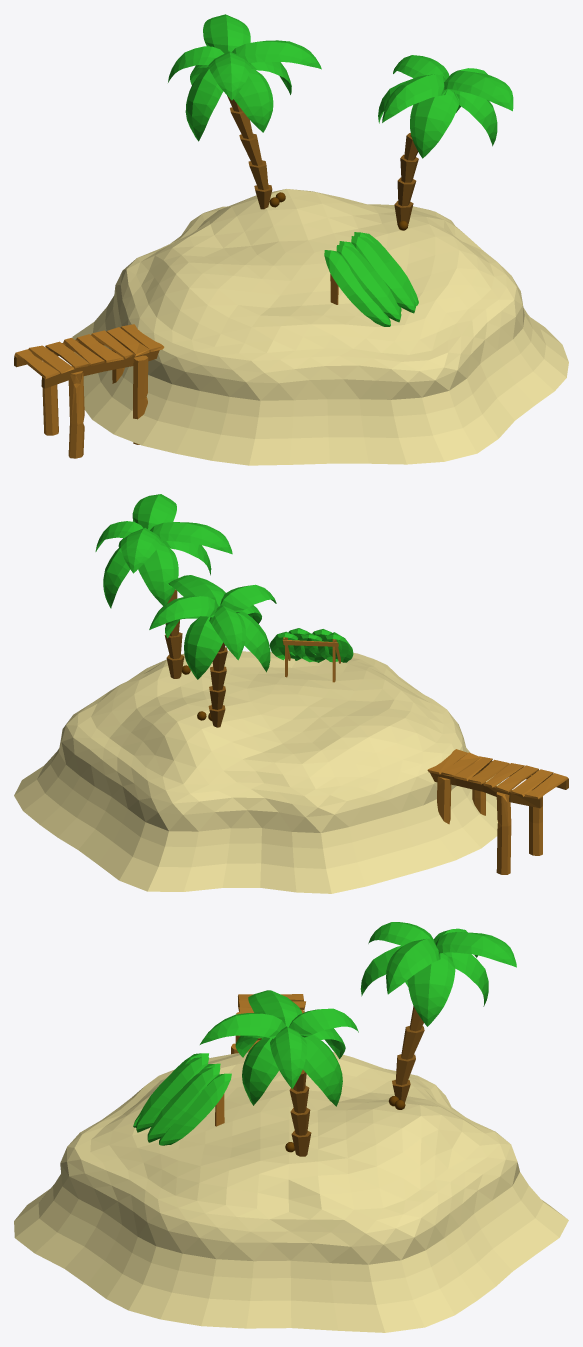
The model's file is island_2.glb.
3 renders of one model, top to bottom at view 1: azimuth 30°, elevation 25°; view 2: azimuth 150°, elevation 25°; view 3: azimuth 270°, elevation 25°, orthographic. The views are drawn at different scales.
Visible parts, largest first — view 1: Island, Tree2, Dock, Tree3_03 - Default_0, Shack_03 - Default_0, Tree3_02 - Default_0; view 2: Island, Tree2, Tree3_03 - Default_0, Dock, Shack_03 - Default_0, Tree3_02 - Default_0, Shack_08 - Default_0; view 3: Island, Tree2, Tree3_03 - Default_0, Shack_03 - Default_0, Tree3_02 - Default_0, Dock.
Boxes of the visible parts, x1,y1,x2,y2 form: Island: (72,189,568,465); Tree2: (168,14,321,209); Dock: (14,324,164,458); Tree3_03 - Default_0: (378,55,513,158); Shack_03 - Default_0: (324,232,418,326); Tree3_02 - Default_0: (394,133,418,225); Island: (14,650,501,893); Tree2: (149,575,276,727); Tree3_03 - Default_0: (95,494,232,608); Dock: (427,749,568,874); Shack_03 - Default_0: (269,628,353,662); Tree3_02 - Default_0: (164,589,184,678); Shack_08 - Default_0: (282,637,340,682); Island: (14,1051,568,1332); Tree2: (360,922,516,1102); Tree3_03 - Default_0: (200,990,358,1106); Shack_03 - Default_0: (133,1053,231,1145); Tree3_02 - Default_0: (289,1070,311,1156); Dock: (231,994,305,1054).
Bounding box in the file's own units: 214 × 116 × 193.
